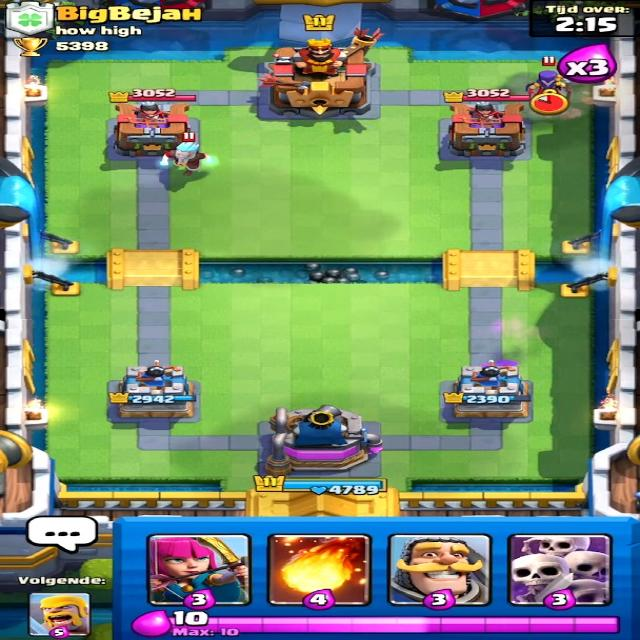Enemy_Ice_Wizard_Troop: (151, 140, 221, 178)
Fireball_Card: (272, 534, 380, 605), (274, 538, 373, 604)
